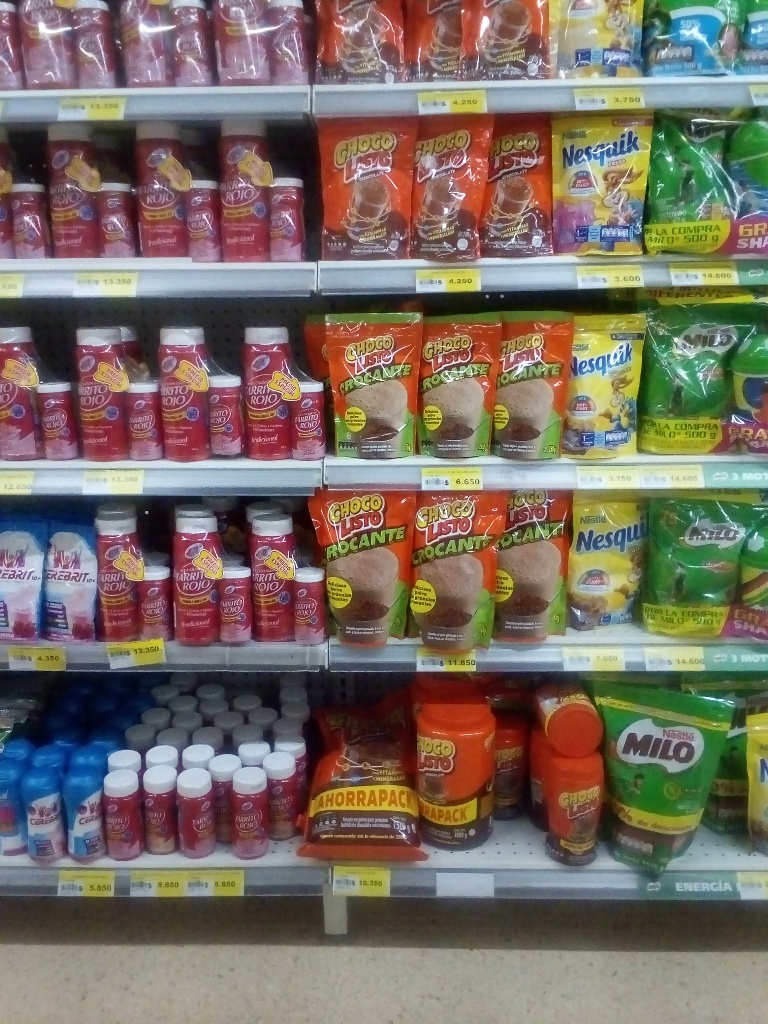COL0170102DYP25000: (322, 317, 414, 461)
COL0170102DYP50000: (320, 491, 415, 639)
COL0170103DYP1,500: (308, 702, 423, 857)
COL0170103TRR00100: (412, 675, 490, 847)
COL0170103TRR30000: (531, 723, 600, 866)
COL0170203DYP50000: (645, 106, 739, 233)
COL0170303DYP20000: (559, 311, 646, 461)
COL0170305DYP20000: (555, 114, 642, 256)
COL0170306DYP20000: (554, 1, 638, 78)
